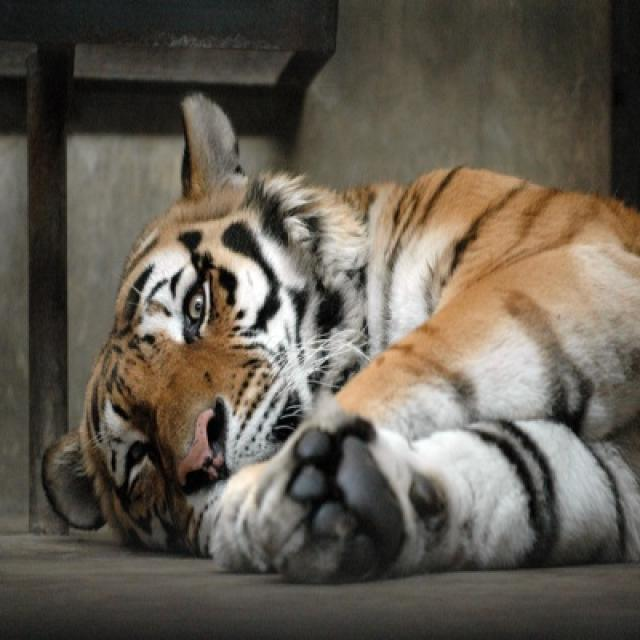Tiger: (46, 98, 637, 566)
